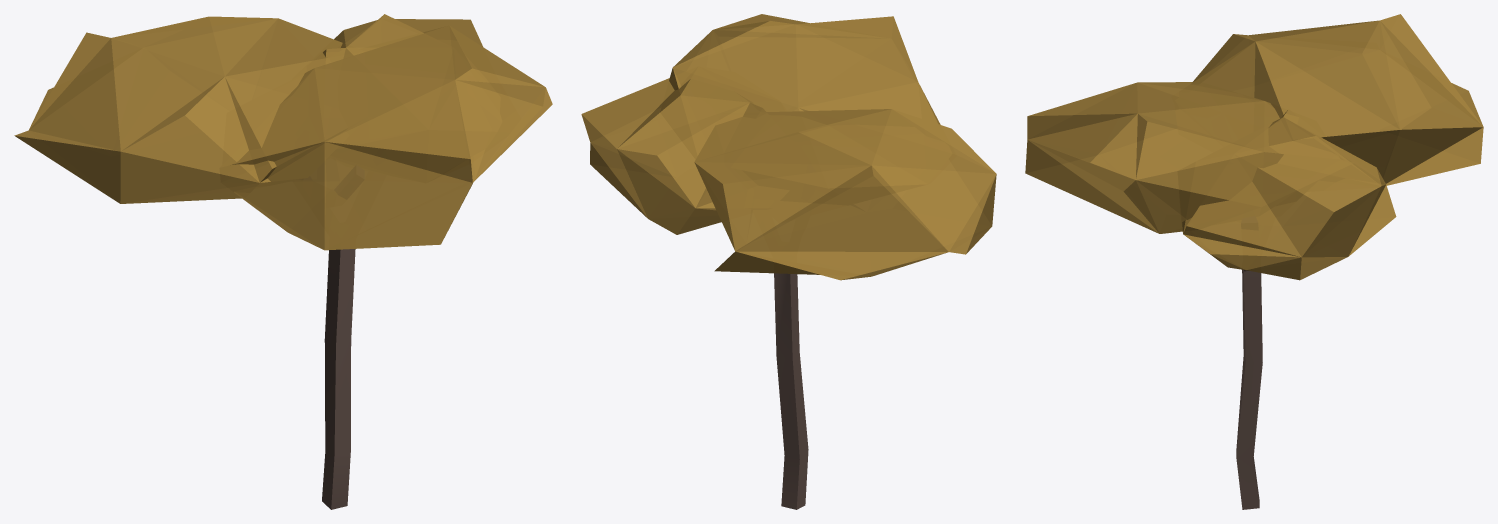
The model's file is Tree.fbx.
3 renders of one model, left to right at view 1: azimuth 30°, elevation 25°; view 2: azimuth 150°, elevation 25°; view 3: azimuth 270°, elevation 25°, orthographic. The views are drawn at different scales.
Visible parts, largest first — view 1: Bush11, Bush10, pCube1, Bush12; view 2: Bush10, Bush11, Bush12, pCube1; view 3: Bush10, Bush11, Bush12, pCube1.
Boxes of the visible parts, left/top/right/bottom form: Bush11: left=230, top=25, right=552, bottom=250; Bush10: left=14, top=16, right=342, bottom=203; pCube1: left=322, top=249, right=355, bottom=509; Bush12: left=323, top=14, right=482, bottom=62; Bush10: left=694, top=109, right=996, bottom=280; Bush11: left=669, top=14, right=940, bottom=124; Bush12: left=581, top=78, right=766, bottom=234; pCube1: left=774, top=273, right=808, bottom=509; Bush10: left=1190, top=14, right=1483, bottom=185; Bush11: left=1025, top=82, right=1283, bottom=233; Bush12: left=1182, top=109, right=1396, bottom=280; pCube1: left=1236, top=269, right=1262, bottom=509.
Size of the model in its own units: 8.49 by 8.43 by 8.27.
